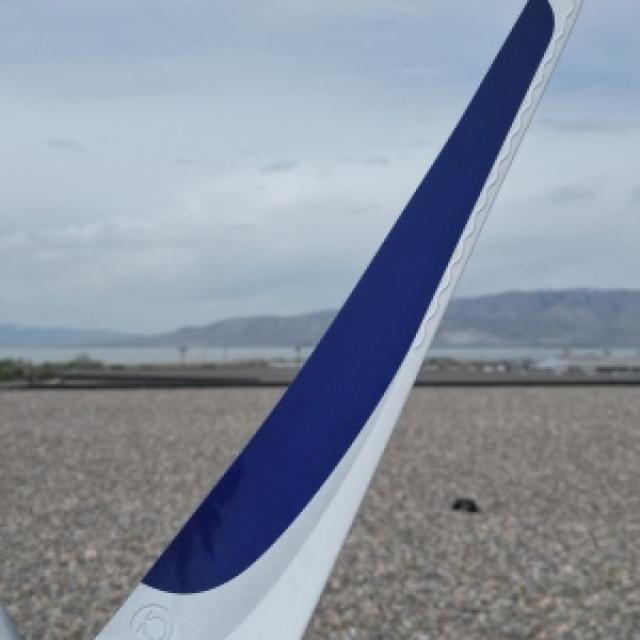healthy: (0, 0, 576, 638), (96, 0, 576, 638)
